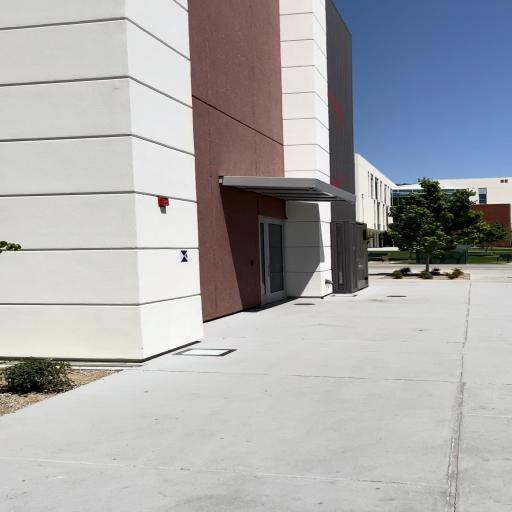target6: (179, 250, 189, 263)
